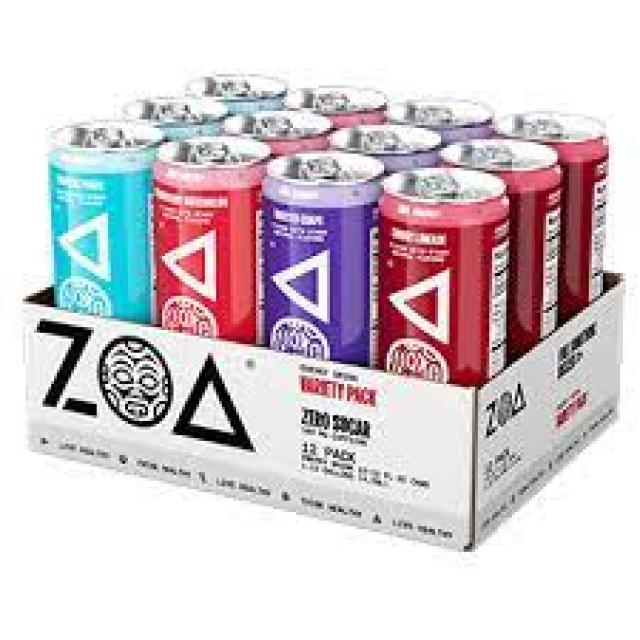Cans: (375, 168, 512, 392), (262, 148, 389, 378), (43, 108, 162, 333), (148, 131, 267, 350)
